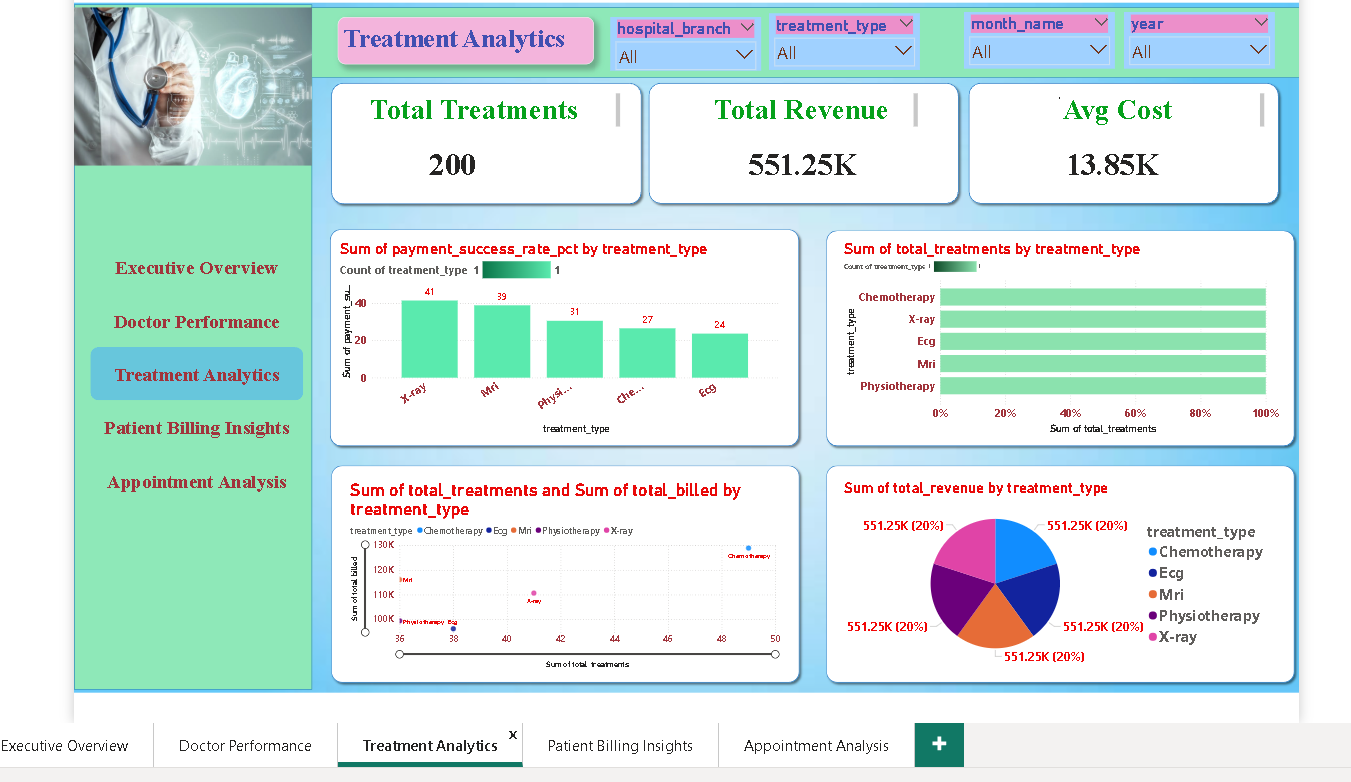

What the dashboard file says about the page in this screenshot:
{"tool":"powerbi","page":{"name":"Treatment Analytics","canvas":[2300,1400],"ordinal":2},"visuals":[{"type":"shape","box":[0,51.2,447,1285.7],"z":0},{"type":"actionButton","box":[29.6,495.6,400,100.2],"z":0,"group":"g1"},{"type":"group","id":"g1","title":"Group 1","box":[29.6,495.6,399.4,500.5],"z":1000},{"type":"actionButton","box":[29.6,595.8,400,100.2],"z":1000,"group":"g1"},{"type":"shape","box":[446.3,56.7,1854.2,133.1],"z":2000},{"type":"actionButton","box":[29.6,696.1,400,100.2],"z":2000,"group":"g1"},{"type":"shape","box":[473.8,189.5,600,245],"z":3000},{"type":"actionButton","box":[29.6,896.6,400,99],"z":3000,"group":"g1"},{"type":"shape","box":[1070.1,189.9,599.2,244.1],"z":4000},{"type":"actionButton","box":[29.6,796.3,400,100.2],"z":4000,"group":"g1"},{"type":"shape","box":[470.7,465.6,898,424.7],"z":5000},{"type":"shape","box":[473.8,906.7,896.4,425.2],"z":6000},{"type":"shape","box":[1403.6,906.7,896.4,425.2],"z":7000},{"type":"shape","box":[1403.6,466.1,896.4,422.6],"z":8000},{"type":"textbox","box":[495.6,74,480.8,88.8],"z":9000},{"type":"shape","box":[1669.3,189.9,599.2,244.1],"z":10000},{"type":"textbox","box":[552.3,214.5,478.3,81.4],"z":11000},{"type":"textbox","box":[1195.9,214.5,392,81.4],"z":12000},{"type":"textbox","box":[1832,214.5,406.8,81.4],"z":13000},{"type":"cardVisual","fields":{"Data":["Sum(agg_treatment_summary.avg_cost)"]},"box":[1832,295.9,271.2,113.4],"z":14000},{"type":"cardVisual","fields":{"Data":["Sum(agg_treatment_summary.total_billed)"]},"box":[1235.3,295.9,271.2,113.4],"z":15000},{"type":"cardVisual","fields":{"Data":["Sum(agg_treatment_summary.total_treatments)"]},"box":[638.6,295.9,202.2,113.4],"z":16000},{"type":"columnChart","fields":{"Category":["agg_treatment_summary.treatment_type"],"Y":["Sum(agg_treatment_summary.payment_success_rate_pct)"]},"box":[495.6,493.1,833.4,369.9],"z":17000},{"type":"hundredPercentStackedBarChart","fields":{"Category":["agg_treatment_summary.treatment_type"],"Y":["Sum(agg_treatment_summary.total_treatments)"]},"box":[1440,493.1,828.5,369.9],"z":18000},{"type":"scatterChart","fields":{"X":["Sum(agg_treatment_summary.total_treatments)"],"Y":["Sum(agg_treatment_summary.total_billed)"],"Series":["agg_treatment_summary.treatment_type"]},"box":[512.9,941.9,816.1,360],"z":19000},{"type":"pieChart","fields":{"Category":["agg_treatment_summary.treatment_type"],"Y":["Sum(agg_doctor_performance.total_revenue)"]},"box":[1440,941.9,813.7,360],"z":20000},{"type":"slicer","fields":{"Values":["dim_doctors.hospital_branch"]},"box":[1006,74,283.6,101.1],"z":21000},{"type":"slicer","fields":{"Values":["dim_date.year"]},"box":[1970.1,66.6,283.6,106],"z":22000},{"type":"slicer","fields":{"Values":["dim_date.month_name"]},"box":[1669.3,66.6,283.6,106],"z":23000},{"type":"slicer","fields":{"Values":["agg_treatment_summary.treatment_type"]},"box":[1304.4,69,283.6,106],"z":24000},{"type":"image","box":[0,56.7,446.3,298.4],"z":25000}]}

Visuals, with their boxes on the page's 2300x1400 design canvas (x1, y1, x2, y2). These are canvas units, not pixel positions in the 1351x782 screenshot, which may show the page scaled, cropped or inside an application window:
shape: [0, 51, 447, 1337]
actionButton: [30, 496, 430, 596]
"Group 1" group: [30, 496, 429, 996]
actionButton: [30, 596, 430, 696]
shape: [446, 57, 2300, 190]
actionButton: [30, 696, 430, 796]
shape: [474, 190, 1074, 434]
actionButton: [30, 897, 430, 996]
shape: [1070, 190, 1669, 434]
actionButton: [30, 796, 430, 896]
shape: [471, 466, 1369, 890]
shape: [474, 907, 1370, 1332]
shape: [1404, 907, 2300, 1332]
shape: [1404, 466, 2300, 889]
textbox: [496, 74, 976, 163]
shape: [1669, 190, 2268, 434]
textbox: [552, 214, 1031, 296]
textbox: [1196, 214, 1588, 296]
textbox: [1832, 214, 2239, 296]
cardVisual - Sum(agg_treatment_summary.avg_cost): [1832, 296, 2103, 409]
cardVisual - Sum(agg_treatment_summary.total_billed): [1235, 296, 1506, 409]
cardVisual - Sum(agg_treatment_summary.total_treatments): [639, 296, 841, 409]
columnChart - agg_treatment_summary.treatment_type x Sum(agg_treatment_summary.payment_success_rate_pct): [496, 493, 1329, 863]
hundredPercentStackedBarChart - agg_treatment_summary.treatment_type x Sum(agg_treatment_summary.total_treatments): [1440, 493, 2268, 863]
scatterChart - Sum(agg_treatment_summary.total_treatments) x Sum(agg_treatment_summary.total_billed): [513, 942, 1329, 1302]
pieChart - agg_treatment_summary.treatment_type x Sum(agg_doctor_performance.total_revenue): [1440, 942, 2254, 1302]
slicer - dim_doctors.hospital_branch: [1006, 74, 1290, 175]
slicer - dim_date.year: [1970, 67, 2254, 173]
slicer - dim_date.month_name: [1669, 67, 1953, 173]
slicer - agg_treatment_summary.treatment_type: [1304, 69, 1588, 175]
image: [0, 57, 446, 355]
